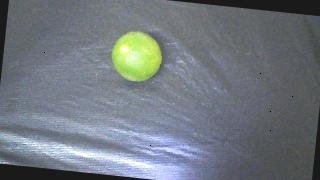LOCAL: (109, 30, 164, 84)
